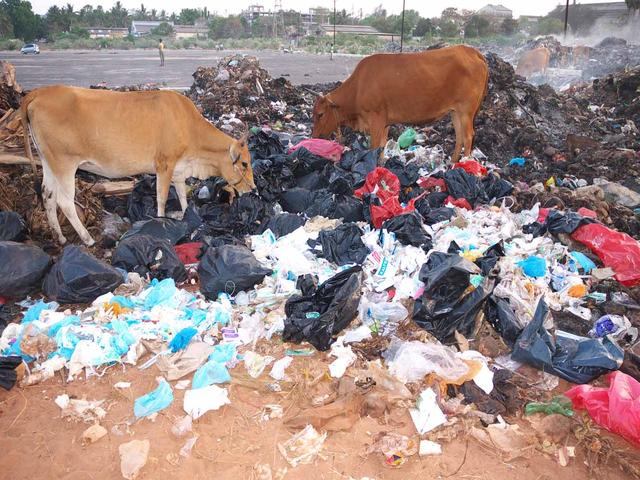garbage: (497, 98, 631, 355), (275, 168, 496, 323), (13, 255, 260, 345), (213, 65, 264, 116)
